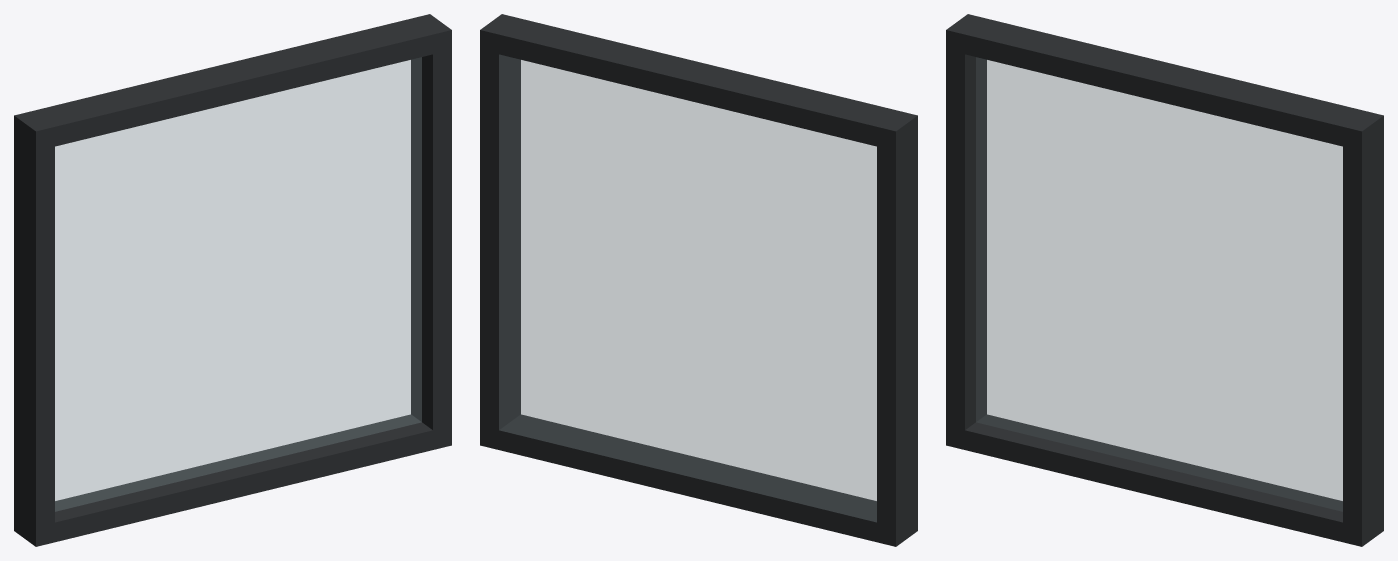
The model's file is caravan_window_small.glb.
3 renders of one model, left to right at view 1: azimuth 30°, elevation 25°; view 2: azimuth 150°, elevation 25°; view 3: azimuth 330°, elevation 25°, orthographic.
Visible parts, largest first — view 1: body:compound; view 2: body:compound; view 3: body:compound.
Boxes of the visible parts, bbox=[...] form: body:compound: bbox=[14, 14, 451, 546]; body:compound: bbox=[480, 14, 917, 546]; body:compound: bbox=[946, 14, 1383, 546].
Bounding box in the file's own units: 0.6875 × 0.6562 × 0.0625.
